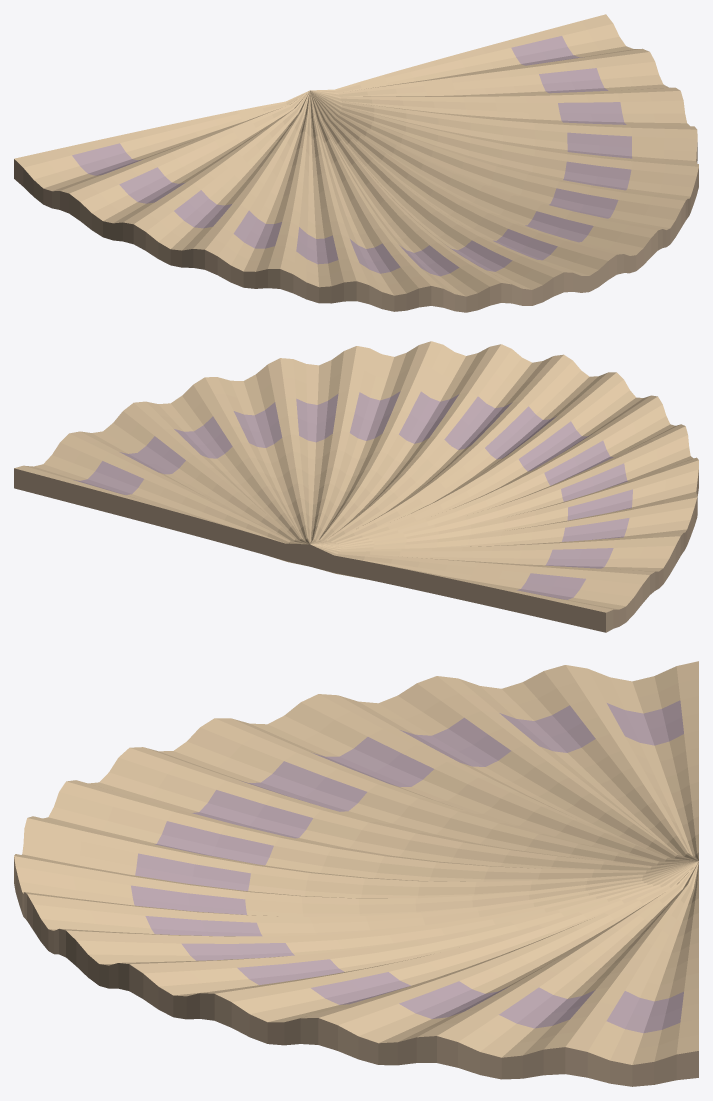
The model's file is strophomena.glb.
The picture shows the model from 3 angles, top to bottom: view 1: azimuth 30°, elevation 25°; view 2: azimuth 150°, elevation 25°; view 3: azimuth 270°, elevation 25°; orthographic projection. The views are drawn at different scales.
Visible parts, largest first — view 1: Shallow articulated radial-ribbed valves; view 2: Shallow articulated radial-ribbed valves; view 3: Shallow articulated radial-ribbed valves.
Boxes of the visible parts, box(x1,y1,x2,y2) form: Shallow articulated radial-ribbed valves: box(14, 14, 698, 312); Shallow articulated radial-ribbed valves: box(14, 341, 698, 632); Shallow articulated radial-ribbed valves: box(14, 661, 698, 1086).
Bounding box in the file's own units: 0.0556 × 0.00508 × 0.0413.
